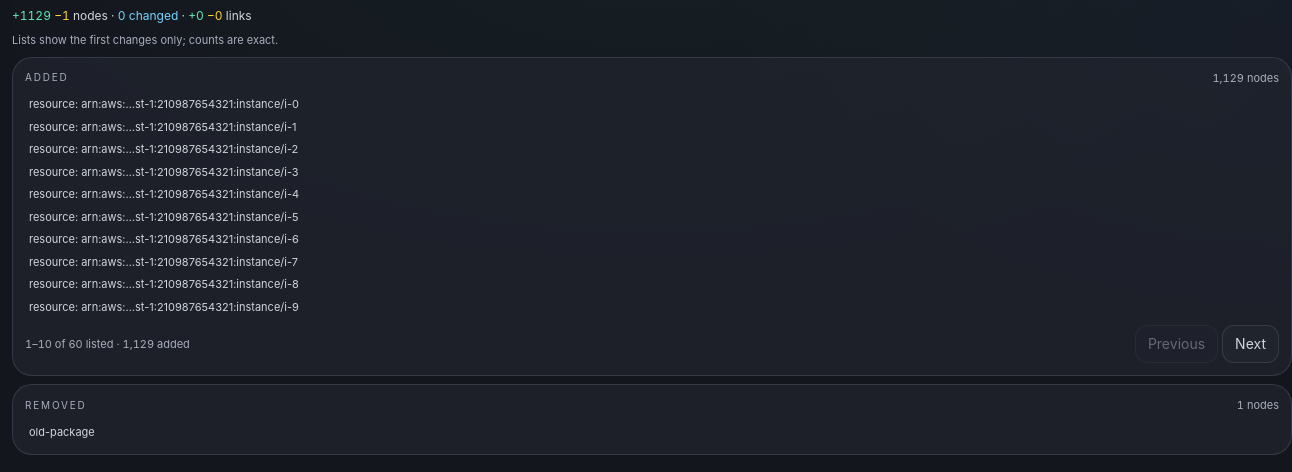
Test: GraphSnapshotDiff › pages long lists, links every entry to its asset in the right snapshot, and keeps long ids inside the drawer
Expected: the link "resource: arn:aws:…st-1:210987654321:instance/i-0" is shown, [29,97,299,111]
Expected: the text "1–10 of 60 listed · 1,129 added" is shown, [25,336,190,352]
Click the button with aria-label "Next added nodes".
click(1251, 344)  # box [1222,325,1279,363]
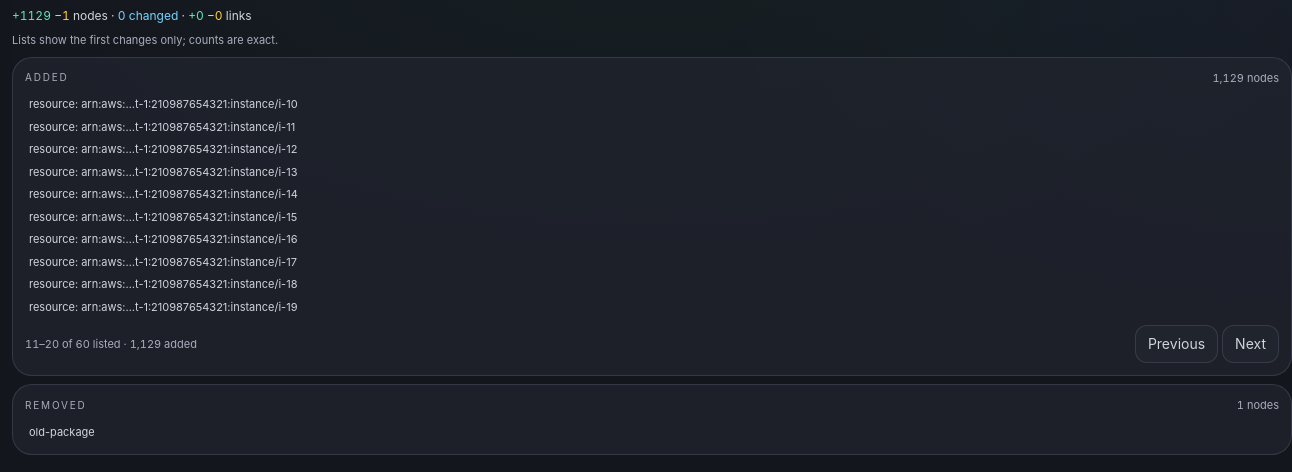
Result: the text "11–20 of 60 listed · 1,129 added" is shown at [25,336,197,352]
